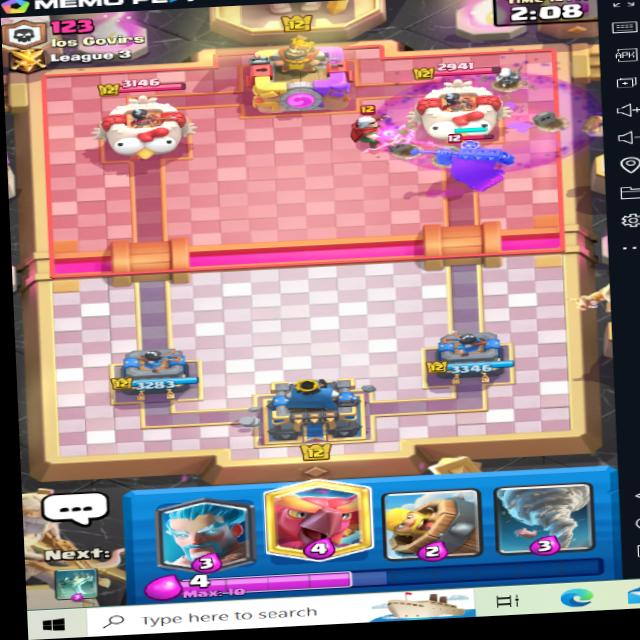magic-archer: (331, 101, 415, 163)
skeleton-king: (427, 128, 514, 190)
